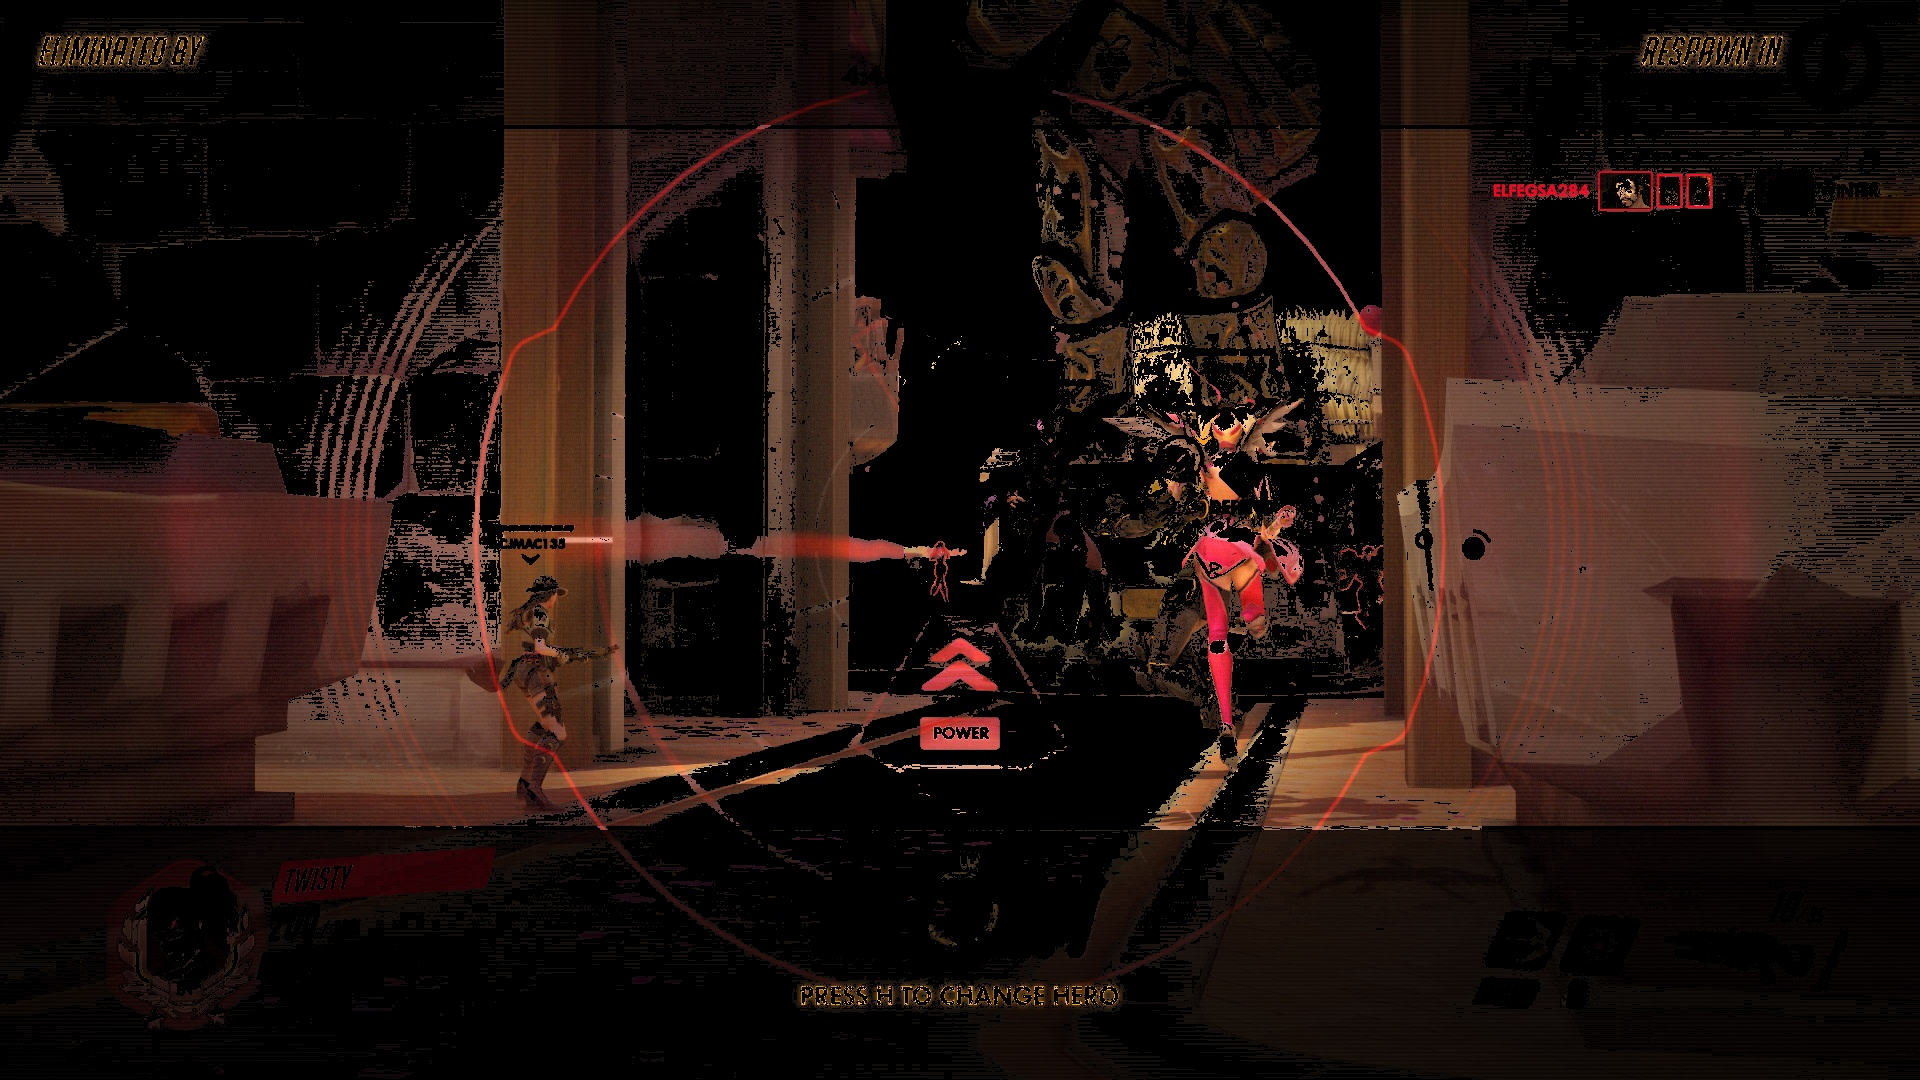widowmaker: (926, 539, 956, 607)
